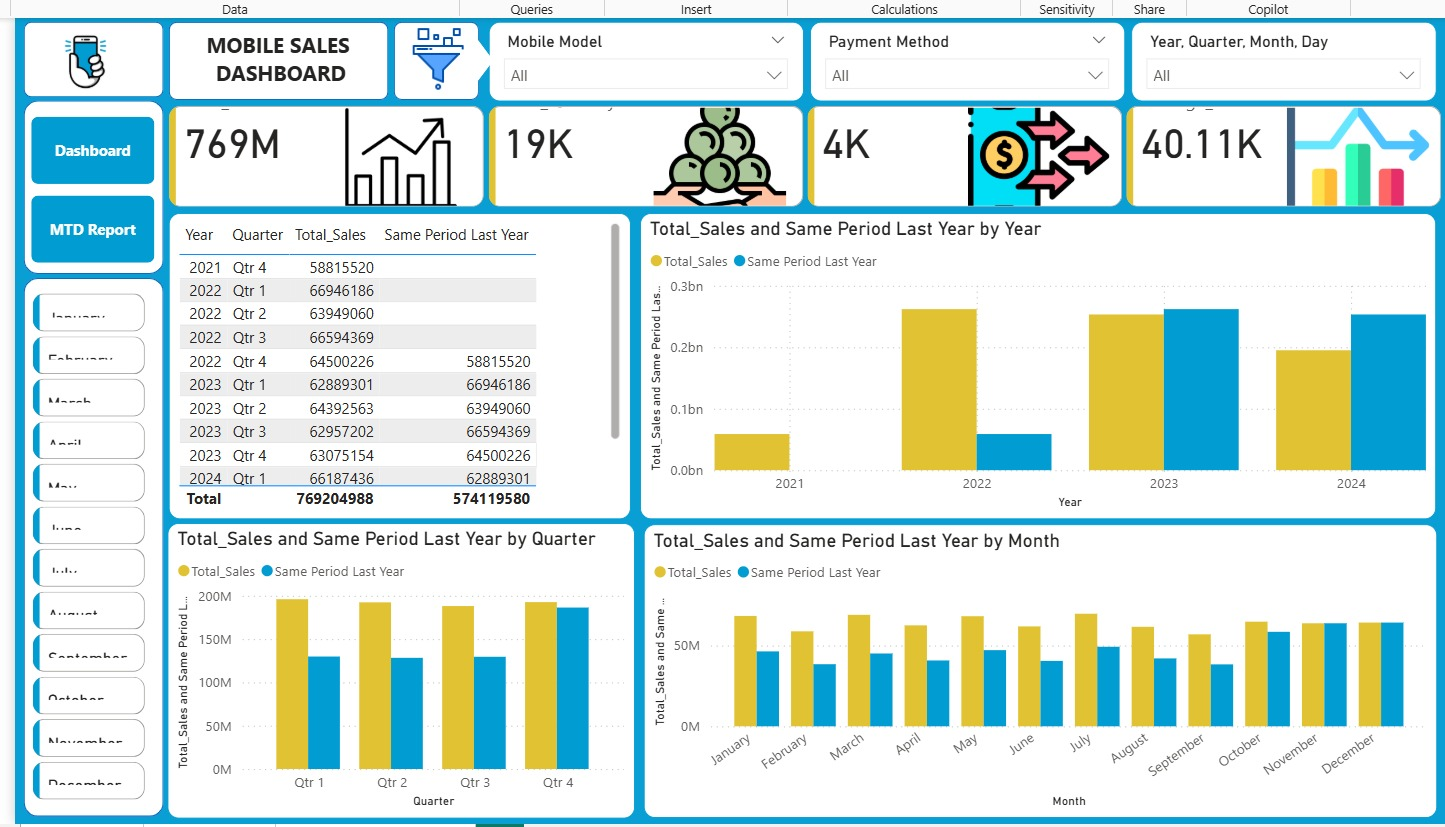

Layout of this report page (visuals, bound fields, positions):
{"tool":"powerbi","page":{"name":"Same Period Last Year","canvas":[1280,720],"ordinal":2},"visuals":[{"type":"shape","box":[7.5,3.8,125,67.5],"z":0},{"type":"image","box":[23.8,3.8,78.8,71.2],"z":1000},{"type":"shape","box":[7.5,73.8,125,155],"z":2000},{"type":"cardVisual","fields":{"Data":["Sales_Data.Total_Sales","Sales_Data.Total_Quantity","Sales_Data.Transactions","Sales_Data.Average_Price"]},"box":[132.5,73.8,1147.5,100],"z":3000},{"type":"slicer","fields":{"Values":["Sales_Data.Mobile Model"]},"box":[423.8,3.8,281.2,71.2],"z":4000},{"type":"slicer","fields":{"Values":["Sales_Data.Payment Method"]},"box":[710,3.8,281.2,71.2],"z":5000},{"type":"slicer","fields":{"Values":["Custom_Calendar.Date.Variation.Date Hierarchy.Year","Custom_Calendar.Date.Variation.Date Hierarchy.Quarter","Custom_Calendar.Date.Variation.Date Hierarchy.Month","Custom_Calendar.Date.Variation.Date Hierarchy.Day"]},"box":[997.5,3.8,272.5,71.2],"z":6000},{"type":"shape","box":[338.8,3.8,76.2,70],"z":7000},{"type":"image","box":[337.5,3.8,81.2,66.2],"z":8000},{"type":"shape","box":[397.5,17.5,30,40],"z":9000},{"type":"shape","box":[137.5,3.8,196.2,70],"z":10000},{"type":"textbox","box":[156.2,6.2,162.5,63.8],"z":11000},{"type":"shape","box":[7.5,232.5,125,481.2],"z":12000},{"type":"advancedSlicerVisual","fields":{"Values":["Custom_Calendar.Date.Variation.Date Hierarchy.Month"]},"box":[11.2,241.2,110,472.5],"z":13000},{"type":"tableEx","fields":{"Values":["Custom_Calendar.Date.Variation.Date Hierarchy.Year","Custom_Calendar.Date.Variation.Date Hierarchy.Quarter","Sales_Data.Total_Sales","Sales_Data.Same Period Last Year"]},"box":[137.5,173.8,412.5,273.8],"z":14000},{"type":"clusteredColumnChart","fields":{"Category":["Custom_Calendar.Date.Variation.Date Hierarchy.Year","Custom_Calendar.Date.Variation.Date Hierarchy.Quarter"],"Y":["Sales_Data.Total_Sales","Sales_Data.Same Period Last Year"]},"box":[558.8,173.8,711.2,273.8],"z":15000},{"type":"clusteredColumnChart","fields":{"Y":["Sales_Data.Total_Sales","Sales_Data.Same Period Last Year"],"Category":["Custom_Calendar.Date.Variation.Date Hierarchy.Year","Custom_Calendar.Date.Variation.Date Hierarchy.Quarter","Custom_Calendar.Date.Variation.Date Hierarchy.Month","Custom_Calendar.Date.Variation.Date Hierarchy.Day"]},"box":[561.2,452.5,708.8,262.5],"z":16000},{"type":"clusteredColumnChart","fields":{"Category":["Custom_Calendar.Date.Variation.Date Hierarchy.Year","Custom_Calendar.Date.Variation.Date Hierarchy.Quarter"],"Y":["Sales_Data.Total_Sales","Sales_Data.Same Period Last Year"]},"box":[136.2,451.2,417.5,263.8],"z":17000},{"type":"pageNavigator","box":[15,88.8,110,130],"z":18000}]}

Visuals, with their boxes on the page's 1280x720 design canvas (x1, y1, x2, y2). These are canvas units, not pixel positions in the 1445x827 screenshot, which may show the page scaled, cropped or inside an application window:
shape: (8,4,132,71)
image: (24,4,103,75)
shape: (8,74,132,229)
cardVisual - Sales_Data.Total_Sales x Sales_Data.Total_Quantity: (132,74,1280,174)
slicer - Sales_Data.Mobile Model: (424,4,705,75)
slicer - Sales_Data.Payment Method: (710,4,991,75)
slicer - Custom_Calendar.Date.Variation.Date Hierarchy.Year x Custom_Calendar.Date.Variation.Date Hierarchy.Quarter: (998,4,1270,75)
shape: (339,4,415,74)
image: (338,4,419,70)
shape: (398,18,428,58)
shape: (138,4,334,74)
textbox: (156,6,319,70)
shape: (8,232,132,714)
advancedSlicerVisual - Custom_Calendar.Date.Variation.Date Hierarchy.Month: (11,241,121,714)
tableEx - Custom_Calendar.Date.Variation.Date Hierarchy.Year x Custom_Calendar.Date.Variation.Date Hierarchy.Quarter: (138,174,550,448)
clusteredColumnChart - Custom_Calendar.Date.Variation.Date Hierarchy.Year x Custom_Calendar.Date.Variation.Date Hierarchy.Quarter: (559,174,1270,448)
clusteredColumnChart - Sales_Data.Total_Sales x Sales_Data.Same Period Last Year: (561,452,1270,715)
clusteredColumnChart - Custom_Calendar.Date.Variation.Date Hierarchy.Year x Custom_Calendar.Date.Variation.Date Hierarchy.Quarter: (136,451,554,715)
pageNavigator: (15,89,125,219)
